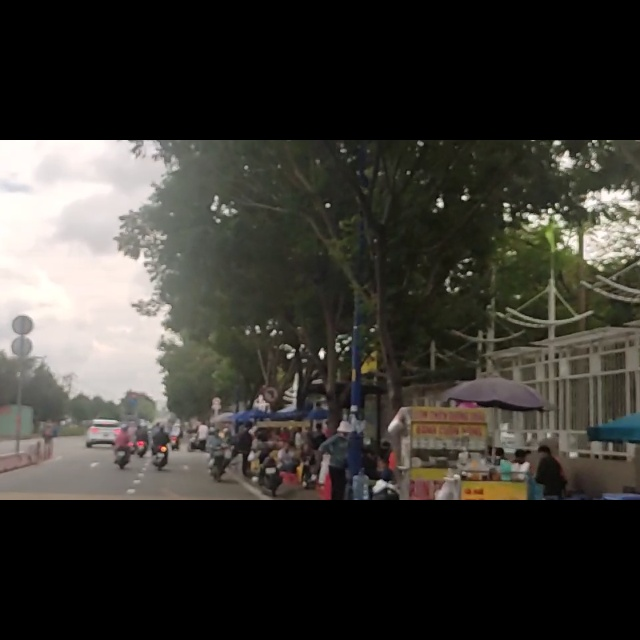bien_cam: (261, 434, 280, 472)
